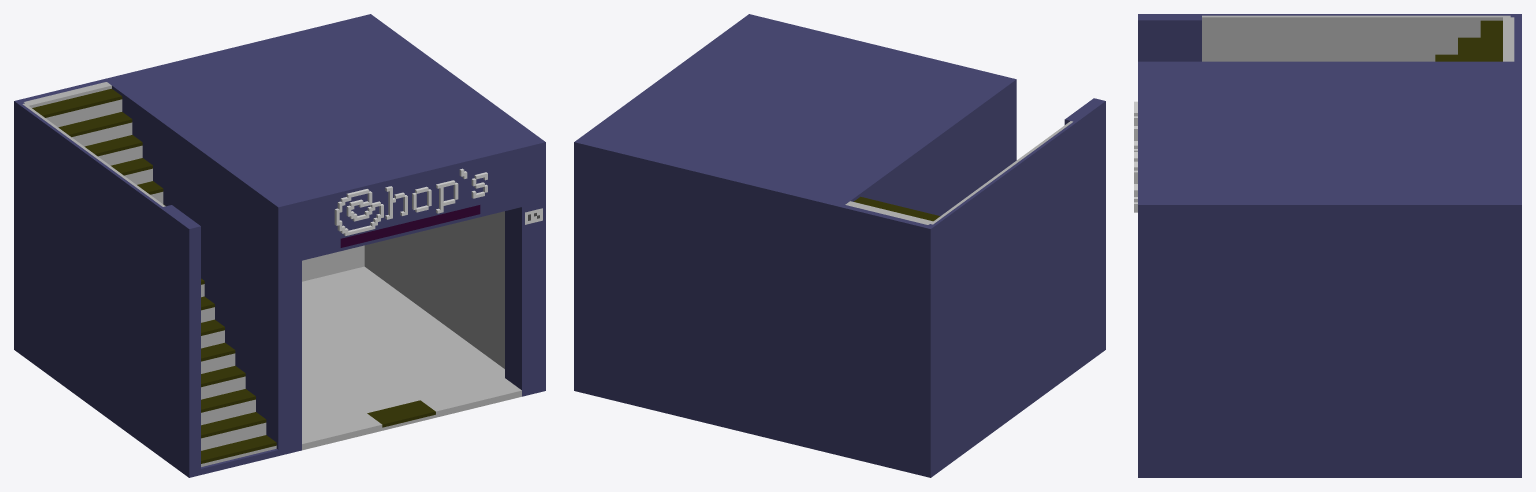
The model's file is shop-chips-3-shop-chips-L1.obj.
The picture shows the model from 3 angles, left to right: view 1: azimuth 30°, elevation 25°; view 2: azimuth 150°, elevation 25°; view 3: azimuth 270°, elevation 25°; orthographic projection. The views are drawn at different scales.
Parts seen in each view (by area): view 1: shop-chips-L1; view 2: shop-chips-L1; view 3: shop-chips-L1.
Part boxes in pixels (left/top/right/bottom): shop-chips-L1: left=14, top=14, right=545, bottom=477; shop-chips-L1: left=574, top=14, right=1105, bottom=477; shop-chips-L1: left=1134, top=14, right=1521, bottom=477.
Size of the model in its own units: 12 by 8 by 10.3.
1 material, 1 textured.
